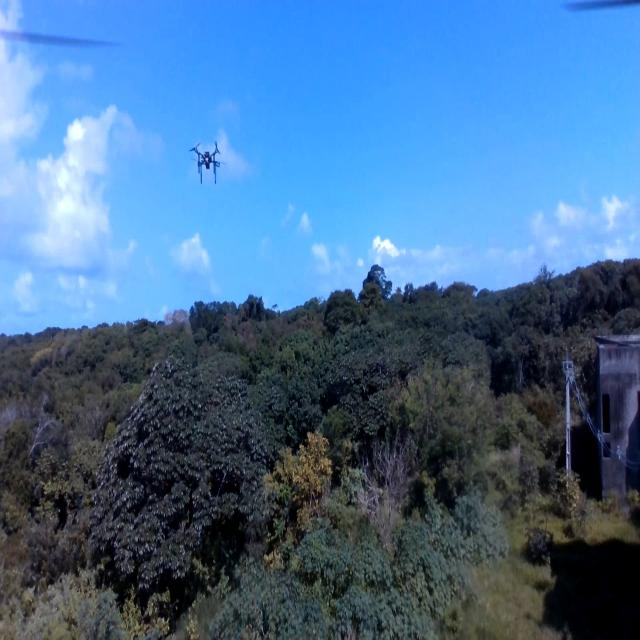-uav-: (186, 136, 232, 197)
